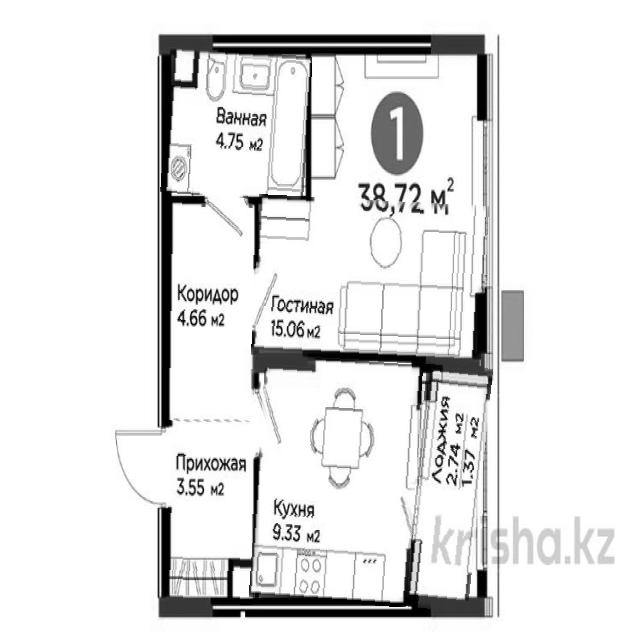balcony: (163, 49, 310, 200), (409, 364, 487, 611)
hallway: (163, 202, 257, 421), (167, 422, 257, 605)
kitchen: (253, 356, 419, 605)
living_room: (253, 197, 488, 364)
